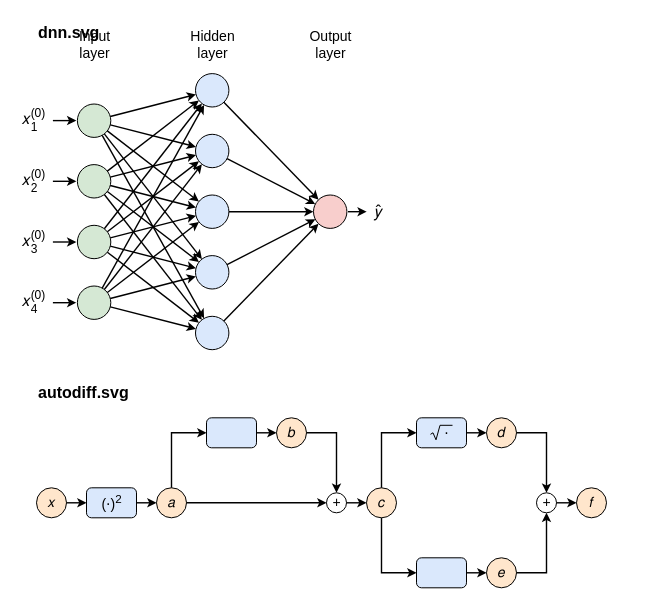
The diagram is 654 pixels wide and 605 high, and some of its shapes have lost their labels. The shapes that lost their labels are listed below. From the top down, each one's centre as x and y in pixels, then its label:
point 231,432: exp(⋅)
point 441,572: cos(⋅)
